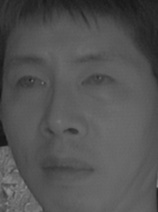eye: (79, 67, 116, 91), (13, 70, 47, 94)
mouth: (36, 150, 97, 188)
